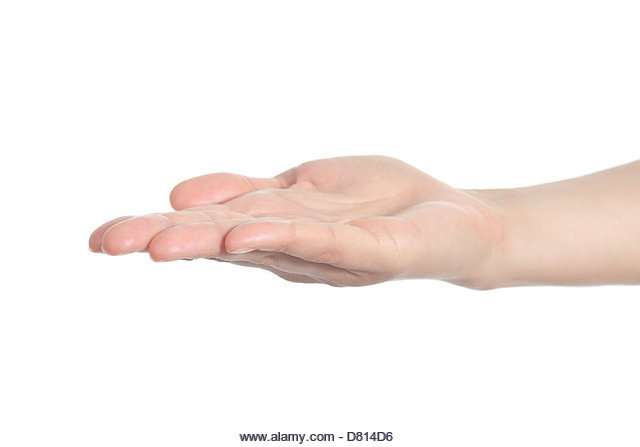non-diseased: (82, 145, 503, 306)
